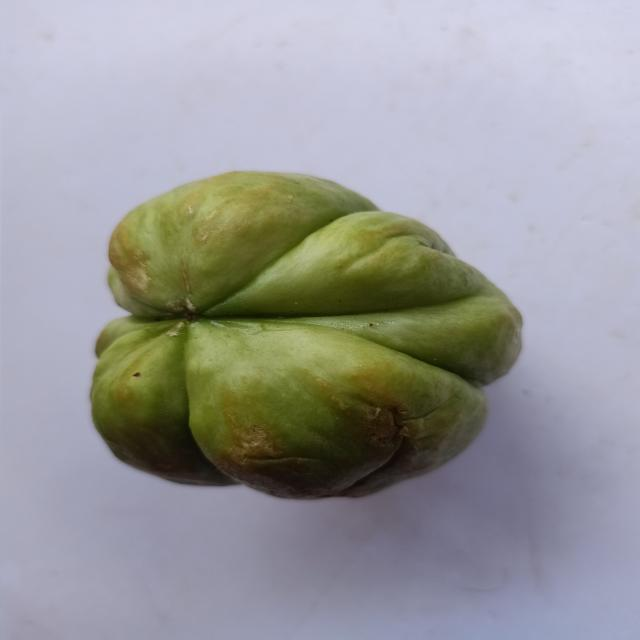Chayote: (75, 152, 548, 519)
